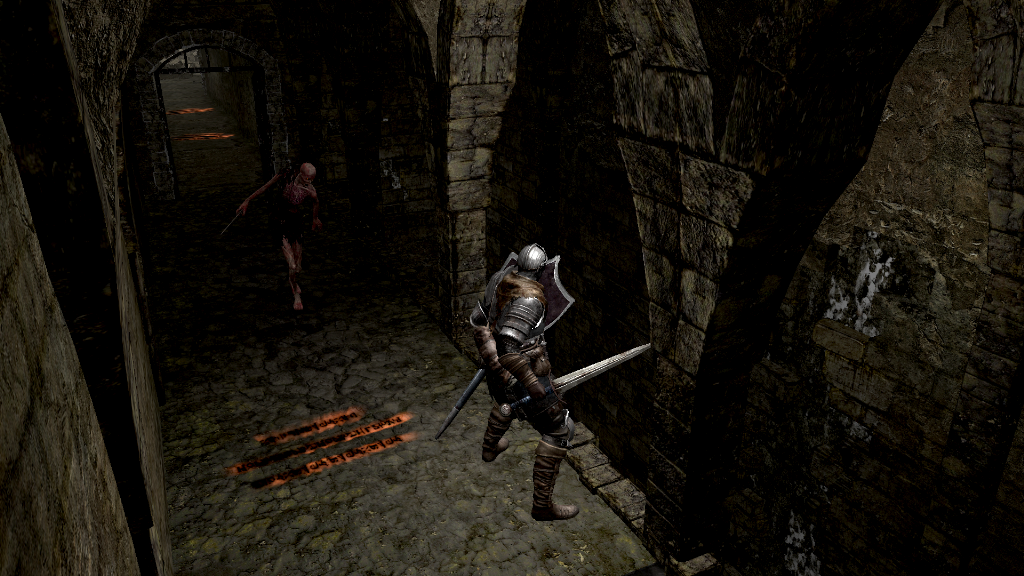hollow: (236, 161, 323, 311)
player: (467, 241, 652, 523)
